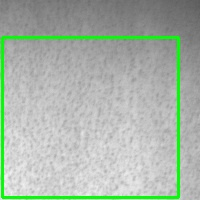pitted_surface: (2, 37, 178, 197)
